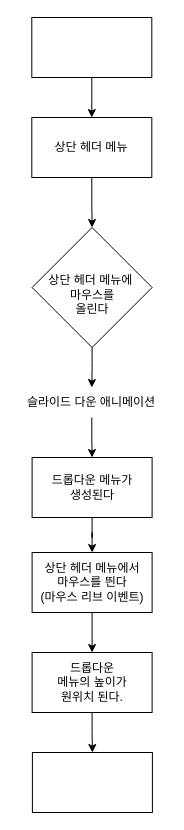
The diagram is 184 pixels wide and 830 high, and some of its shapes have lost their labels. The box of each missing label's shape, as (x1, y1, x2, y2) in pixels:
브라우저 시작: (31, 16, 152, 78)
종료: (31, 752, 152, 812)
